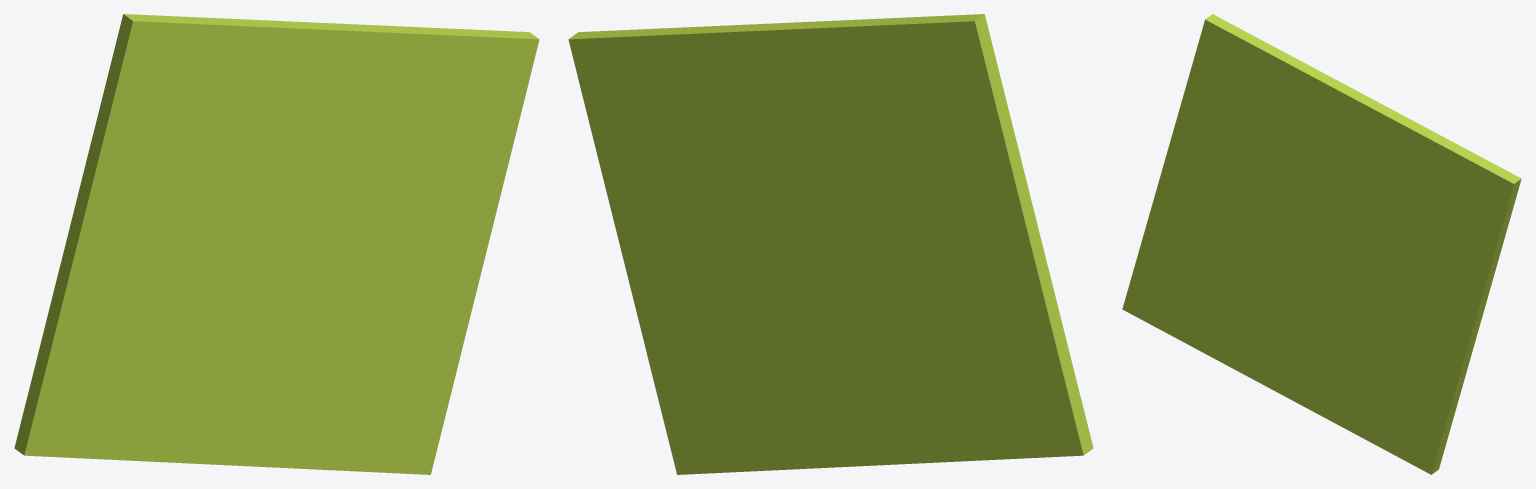
3 renders of one model, left to right at view 1: azimuth 30°, elevation 25°; view 2: azimuth 150°, elevation 25°; view 3: azimuth 330°, elevation 25°, orthographic. The views are drawn at different scales.
Visible parts, largest first — view 1: osm-way27917482-F-1; view 2: osm-way27917482-F-1; view 3: osm-way27917482-F-1.
Boxes of the visible parts, x1=… form: osm-way27917482-F-1: x1=14, y1=14, x2=539, y2=474; osm-way27917482-F-1: x1=568, y1=14, x2=1093, y2=474; osm-way27917482-F-1: x1=1122, y1=14, x2=1521, y2=474.
Size of the model in its own units: 4.5 by 4.39 by 0.15.
